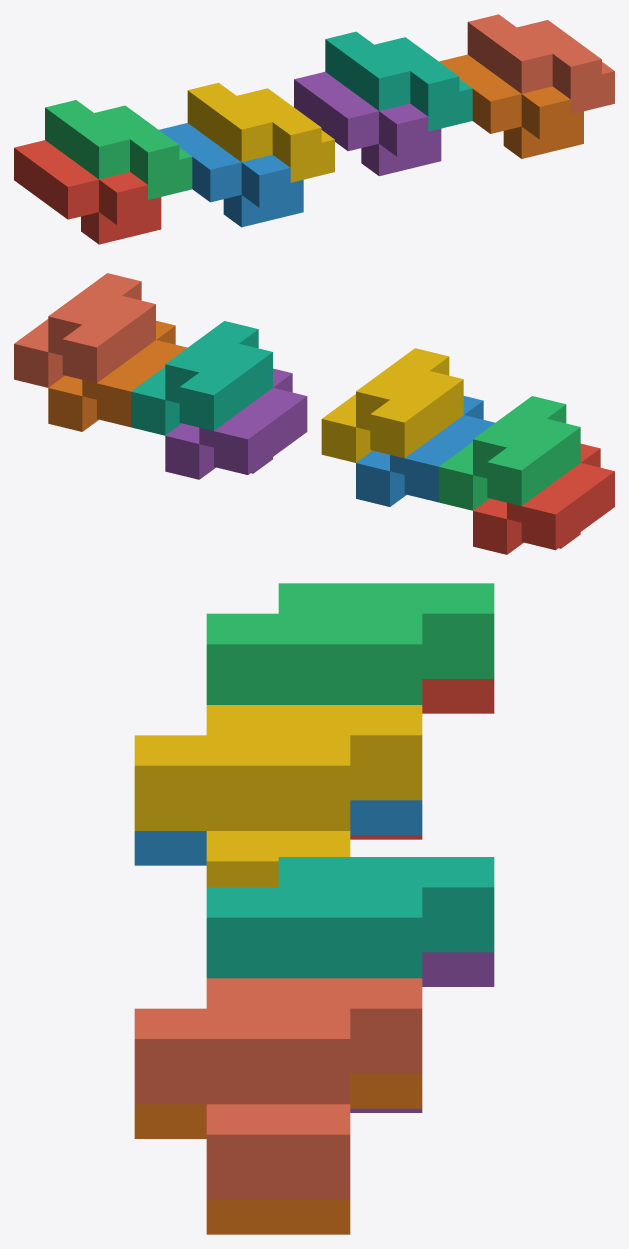
File: tiling.obj
3 views of the same model, one above another, from view 1: azimuth 30°, elevation 25°; view 2: azimuth 150°, elevation 25°; view 3: azimuth 270°, elevation 25° (orthographic). The views are drawn at different scales.
Visible parts, largest first — view 1: copy_1_domain_4, copy_1_domain_8, copy_1_domain_7, copy_1_domain_3, copy_1_domain_1, copy_1_domain_5, copy_1_domain_2, copy_1_domain_6; view 2: copy_1_domain_4, copy_1_domain_3, copy_1_domain_8, copy_1_domain_7, copy_1_domain_5, copy_1_domain_1, copy_1_domain_2, copy_1_domain_6; view 3: copy_1_domain_8, copy_1_domain_4, copy_1_domain_3, copy_1_domain_7, copy_1_domain_6, copy_1_domain_2, copy_1_domain_1, copy_1_domain_5.
Boxes of the visible parts, <box> form: copy_1_domain_4: <box>187,82,334,182</box>; copy_1_domain_8: <box>467,14,614,114</box>; copy_1_domain_7: <box>325,31,472,131</box>; copy_1_domain_3: <box>45,100,192,199</box>; copy_1_domain_1: <box>14,140,161,244</box>; copy_1_domain_5: <box>294,72,441,176</box>; copy_1_domain_2: <box>159,123,303,227</box>; copy_1_domain_6: <box>439,54,583,158</box>; copy_1_domain_4: <box>321,348,463,462</box>; copy_1_domain_3: <box>438,396,580,510</box>; copy_1_domain_8: <box>14,273,155,387</box>; copy_1_domain_7: <box>131,321,272,435</box>; copy_1_domain_5: <box>165,368,307,479</box>; copy_1_domain_1: <box>473,443,614,554</box>; copy_1_domain_2: <box>356,396,494,506</box>; copy_1_domain_6: <box>48,320,187,431</box>; copy_1_domain_8: <box>134,978,422,1199</box>; copy_1_domain_4: <box>134,705,422,887</box>; copy_1_domain_3: <box>206,583,494,704</box>; copy_1_domain_7: <box>206,857,494,978</box>; copy_1_domain_6: <box>134,1074,422,1234</box>; copy_1_domain_2: <box>134,800,422,865</box>; copy_1_domain_1: <box>350,679,494,839</box>; copy_1_domain_5: <box>350,952,494,1112</box>.
Bounding box in the file's own units: 17 × 3 × 5.
